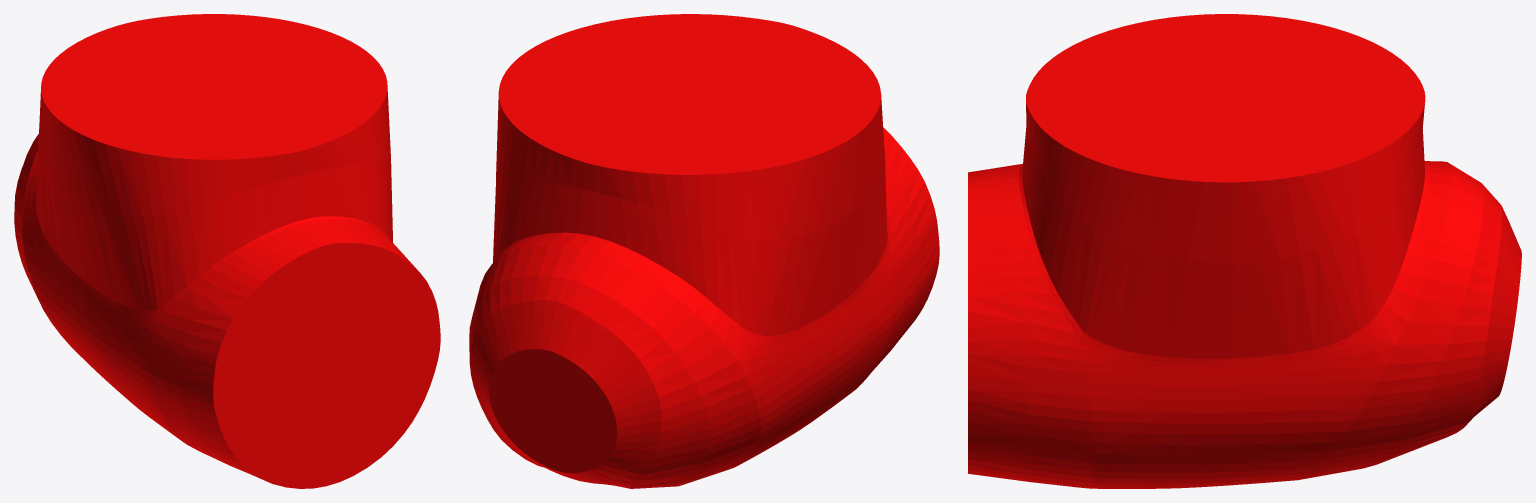
3 views of the same model, side by side, from view 1: azimuth 30°, elevation 25°; view 2: azimuth 150°, elevation 25°; view 3: azimuth 270°, elevation 25° (orthographic). The views are drawn at different scales.
Visible parts, largest first — view 1: MF0617_3_0; view 2: MF0617_3_0; view 3: MF0617_3_0.
Part boxes in pixels (x1,y1,x2,y2): MF0617_3_0: (14,14,440,488); MF0617_3_0: (469,14,939,488); MF0617_3_0: (968,14,1521,488).
Size of the model in its own units: 130 by 181 by 135.
